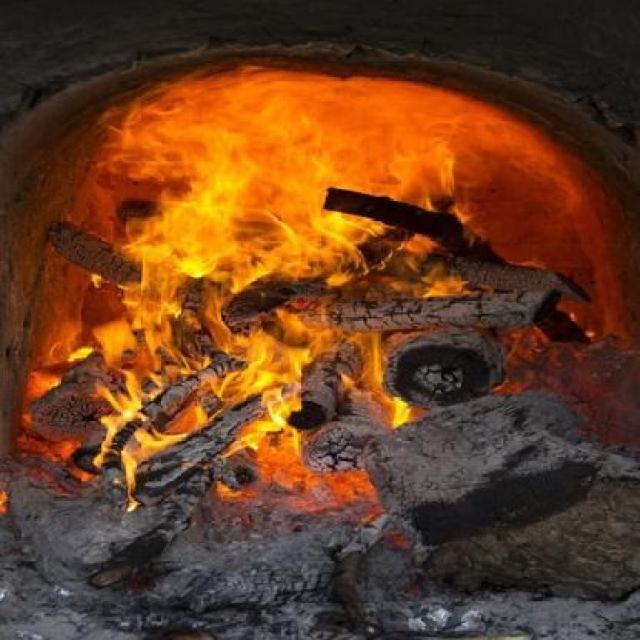Fire: (22, 52, 522, 504)
